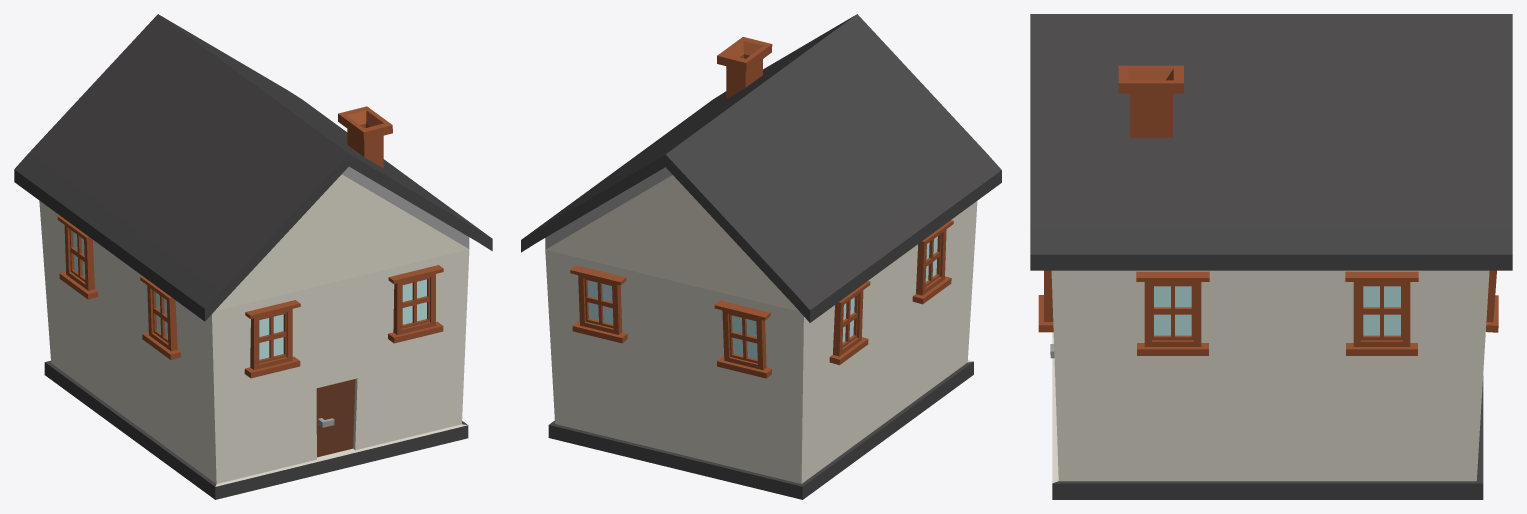
The model's file is House2.glb.
3 renders of one model, left to right at view 1: azimuth 30°, elevation 25°; view 2: azimuth 150°, elevation 25°; view 3: azimuth 270°, elevation 25°, orthographic. The views are drawn at different scales.
Parts seen in each view (by area): view 1: House2; view 2: House2; view 3: House2.
Boxes of the visible parts, box(x1,y1,x2,y2) form: House2: box(14, 14, 492, 499); House2: box(521, 14, 1001, 499); House2: box(1030, 14, 1512, 499).
Bounding box in the file's own units: 1.25 × 1.34 × 1.44.
